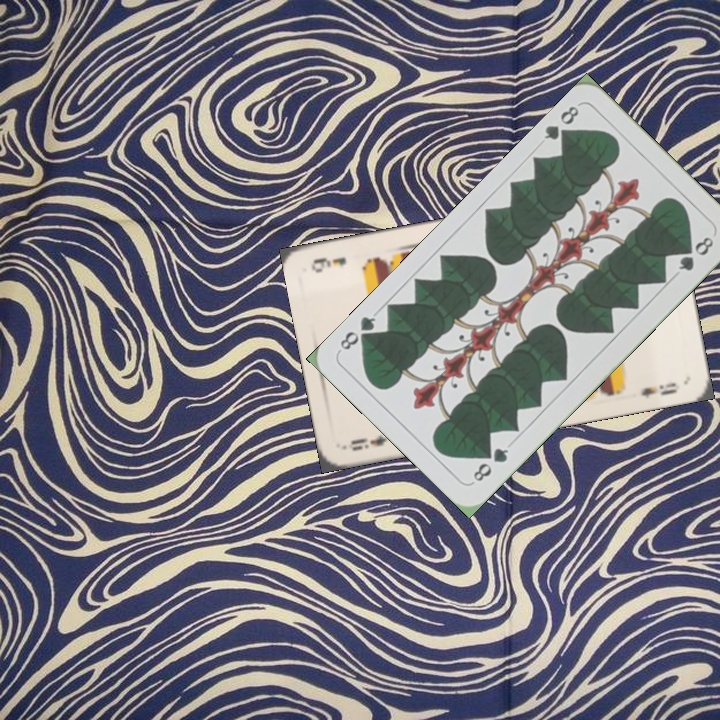E9: (347, 431, 389, 454)
G8: (539, 100, 582, 146), (468, 444, 512, 484)
